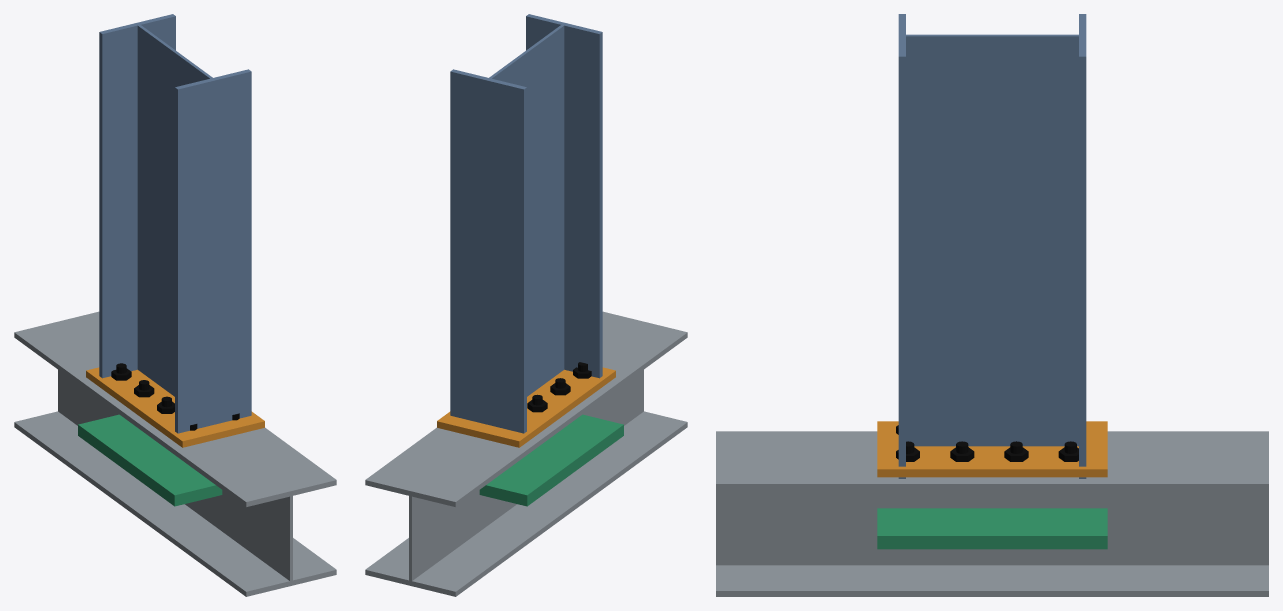
The model's file is detail_A3_beam_to_column_flange_connection.obj.
3 renders of one model, left to right at view 1: azimuth 30°, elevation 25°; view 2: azimuth 150°, elevation 25°; view 3: azimuth 270°, elevation 25°, orthographic. The views are drawn at different scales.
Visible parts, largest first — view 1: A3_beam_to_column_flange_top_flange, A3_beam_to_column_flange_bottom_flange, A3_beam_to_column_flange_web, A3_UC203x203_column_flange_far, A3_UC203x203_column_flange_near, A3_UC203x203_column_web, A3_PL8_column_stiffener, A3_PL14_end_plate_185x375; view 2: A3_beam_to_column_flange_bottom_flange, A3_beam_to_column_flange_top_flange, A3_beam_to_column_flange_web, A3_UC203x203_column_flange_far, A3_UC203x203_column_flange_near, A3_UC203x203_column_web, A3_PL8_column_stiffener, A3_PL14_end_plate_185x375; view 3: A3_beam_to_column_flange_web, A3_UC203x203_column_web, A3_UC203x203_column_flange_far, A3_UC203x203_column_flange_near, A3_PL8_column_stiffener, A3_PL14_end_plate_185x375, A3_beam_to_column_flange_top_flange, A3_beam_to_column_flange_bottom_flange.
Boxes of the visible parts, left/top/right/bottom form: A3_beam_to_column_flange_top_flange: left=175, top=69, right=251, bottom=433; A3_beam_to_column_flange_bottom_flange: left=99, top=14, right=175, bottom=378; A3_beam_to_column_flange_web: left=137, top=25, right=212, bottom=396; A3_UC203x203_column_flange_far: left=14, top=311, right=336, bottom=507; A3_UC203x203_column_flange_near: left=14, top=411, right=336, bottom=596; A3_UC203x203_column_web: left=58, top=370, right=292, bottom=580; A3_PL8_column_stiffener: left=78, top=414, right=222, bottom=506; A3_PL14_end_plate_185x375: left=86, top=367, right=264, bottom=447; A3_beam_to_column_flange_bottom_flange: left=450, top=69, right=526, bottom=433; A3_beam_to_column_flange_top_flange: left=526, top=14, right=602, bottom=378; A3_beam_to_column_flange_web: left=489, top=25, right=564, bottom=396; A3_UC203x203_column_flange_far: left=365, top=311, right=687, bottom=507; A3_UC203x203_column_flange_near: left=365, top=411, right=687, bottom=596; A3_UC203x203_column_web: left=409, top=370, right=643, bottom=580; A3_PL8_column_stiffener: left=479, top=414, right=623, bottom=506; A3_PL14_end_plate_185x375: left=437, top=367, right=615, bottom=447; A3_beam_to_column_flange_web: left=906, top=34, right=1078, bottom=446; A3_UC203x203_column_web: left=716, top=490, right=1268, bottom=565; A3_UC203x203_column_flange_far: left=716, top=431, right=1268, bottom=489; A3_UC203x203_column_flange_near: left=716, top=565, right=1268, bottom=596; A3_PL8_column_stiffener: left=877, top=508, right=1107, bottom=549; A3_PL14_end_plate_185x375: left=877, top=421, right=1107, bottom=477; A3_beam_to_column_flange_top_flange: left=898, top=14, right=905, bottom=478; A3_beam_to_column_flange_bottom_flange: left=1079, top=14, right=1086, bottom=478.
Bounding box in the file's own units: 220 × 962 × 900.
